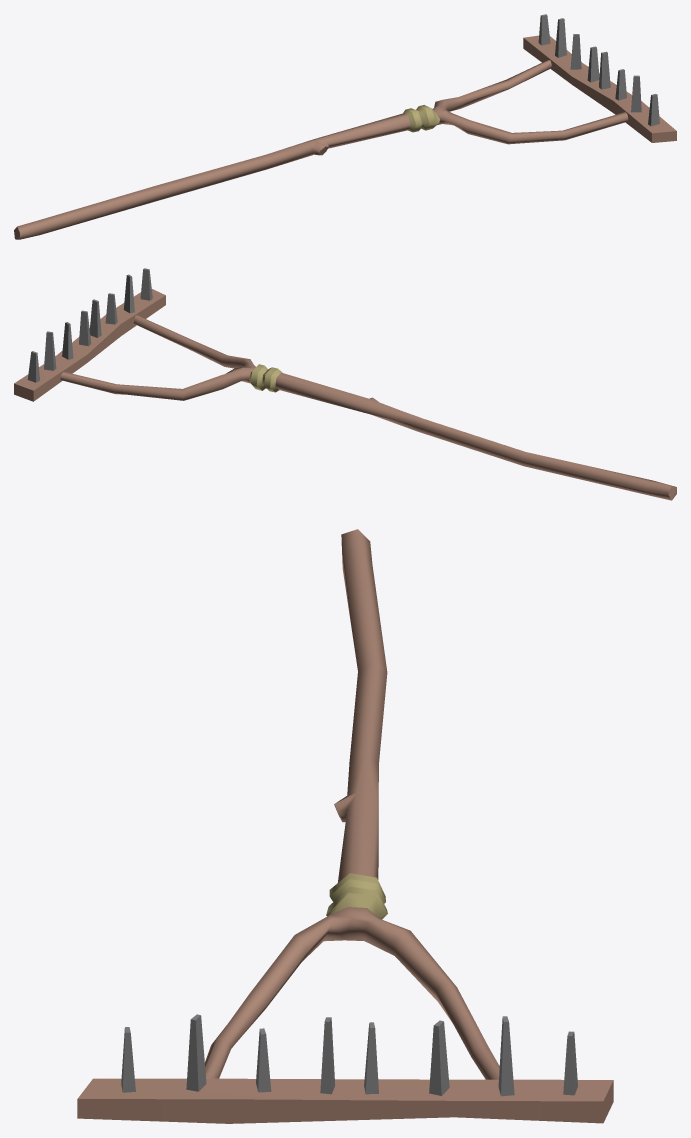
The model's file is Rake.fbx.
3 renders of one model, top to bottom at view 1: azimuth 30°, elevation 25°; view 2: azimuth 150°, elevation 25°; view 3: azimuth 270°, elevation 25°, orthographic. The views are drawn at different scales.
Parts seen in each view (by area): view 1: rpgpp_lt_rake_01; view 2: rpgpp_lt_rake_01; view 3: rpgpp_lt_rake_01.
Part boxes in pixels (left/top/right/bottom): rpgpp_lt_rake_01: left=14, top=14, right=676, bottom=239; rpgpp_lt_rake_01: left=14, top=268, right=676, bottom=500; rpgpp_lt_rake_01: left=77, top=529, right=613, bottom=1123.
Bounding box in the file's own units: 166 × 14.01 × 64.92.
